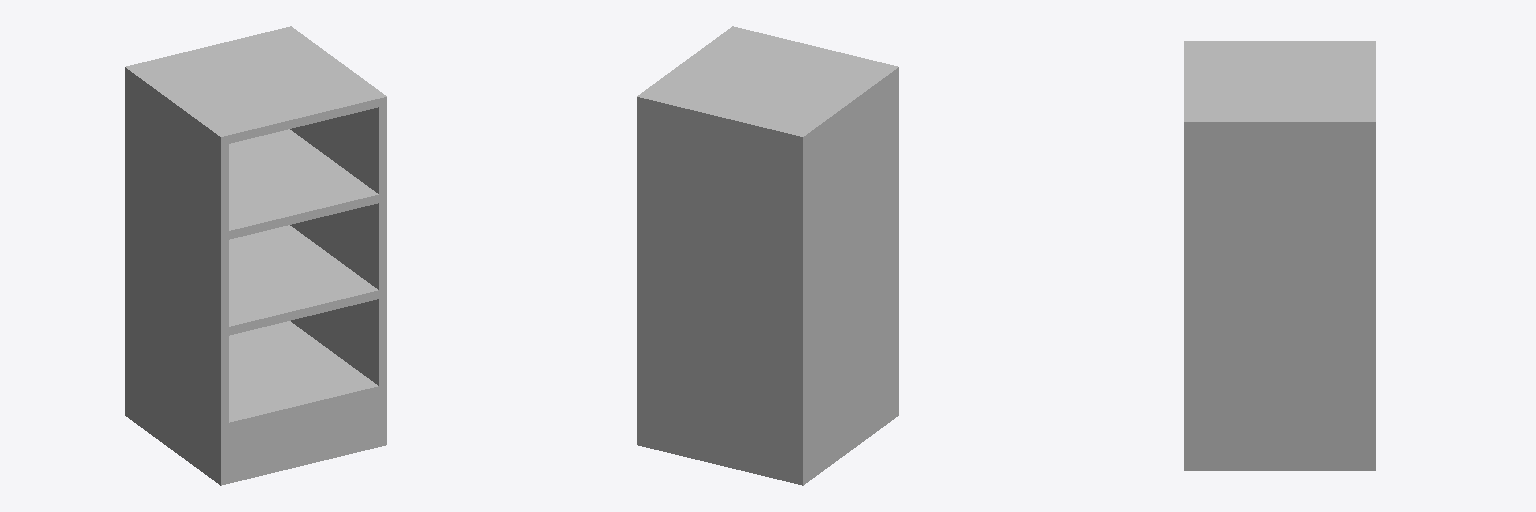
The model's file is fridge.obj.
3 renders of one model, left to right at view 1: azimuth 30°, elevation 25°; view 2: azimuth 150°, elevation 25°; view 3: azimuth 270°, elevation 25°, orthographic.
Parts seen in each view (by area): view 1: Cube; view 2: Cube; view 3: Cube.
Boxes of the visible parts, <box> form: Cube: <box>125,26,386,485</box>; Cube: <box>637,26,898,485</box>; Cube: <box>1184,41,1375,470</box>.
Bounding box in the file's own units: 2 × 4 × 2.